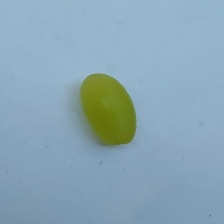grapes: (36, 26, 200, 222)
